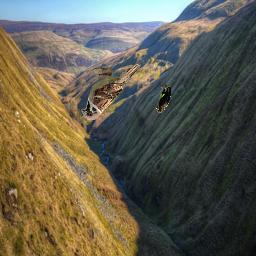Crow: (155, 85, 171, 114)
Sparrow: (81, 62, 141, 120)
